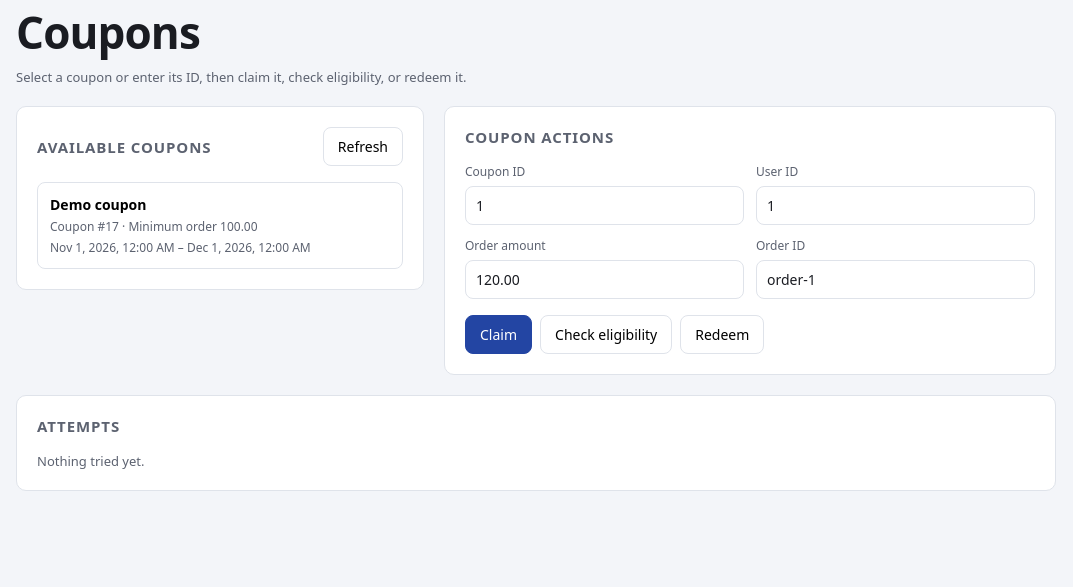
Test case: App › uses a selected catalog coupon when claiming
Click the button "Demo coupon" at (220, 226), box [37,182,403,269]
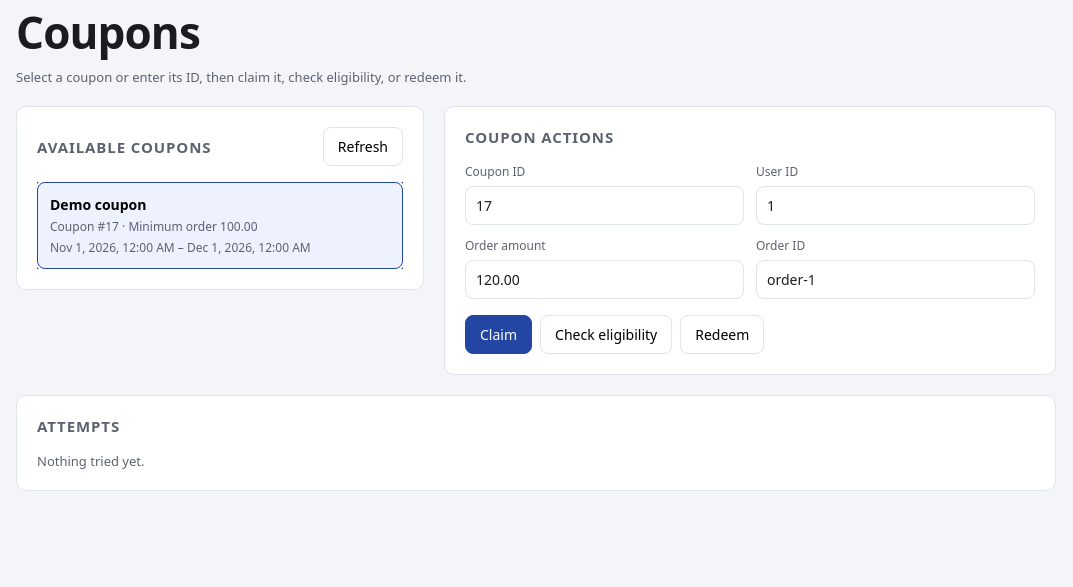
Click the button "Claim" at (498, 334), box [465,315,532,354]
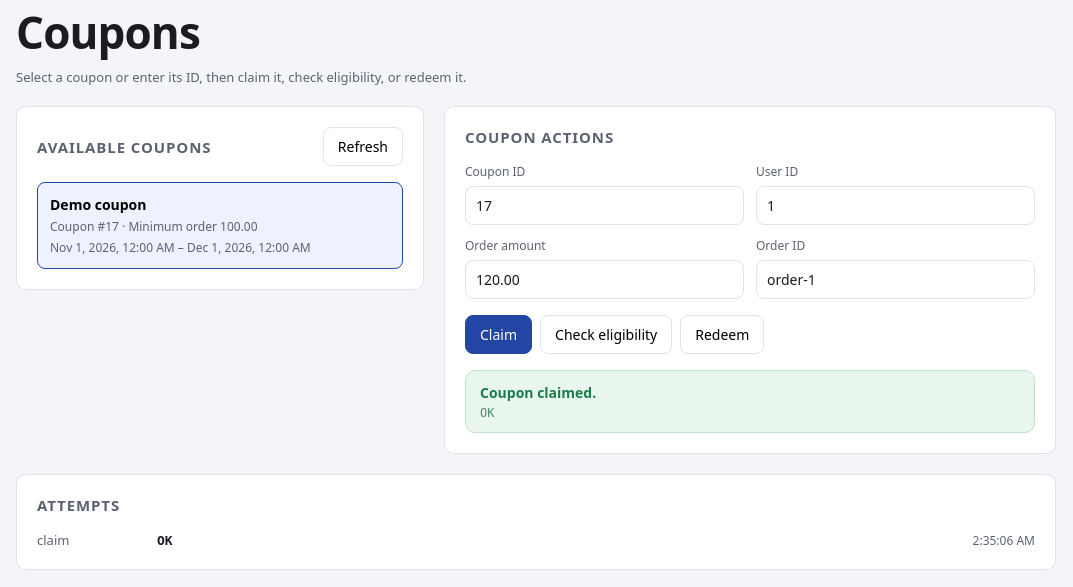
Check: the text "Coupon claimed." is shown, box [480,383,596,402]
